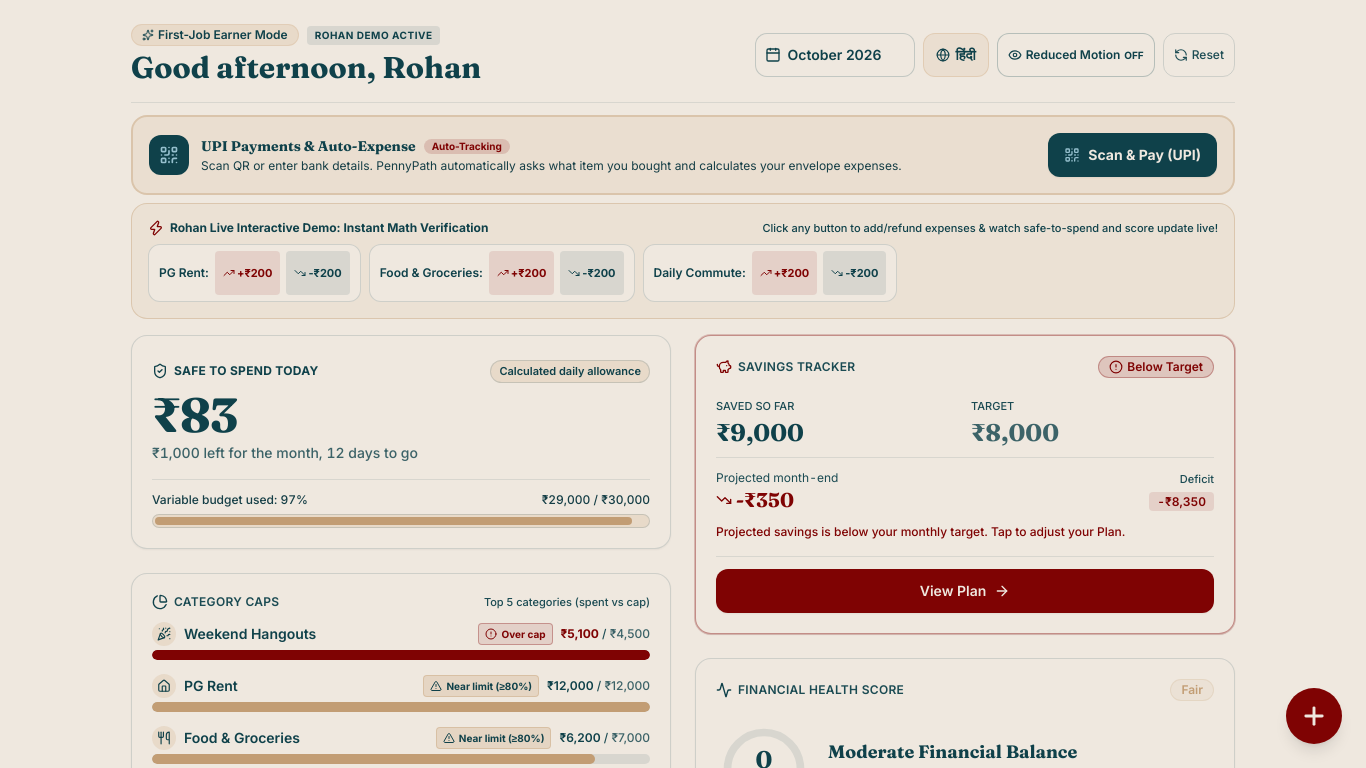
Scenario: Fast Expense Entry & Transactions List Acceptance Suite › allows adding an expense in <= 3 taps from Home via keypad and category tap
The width and height of the screenshot is (1366, 768).
Expected: the text "Safe to spend today" is shown, top-left (174, 363), bottom-right (319, 379)
Note: Tap 1: Tap Quick-Add FAB
Click the button named "Add New Expense": [1314, 716] box top-left (1286, 688), bottom-right (1342, 744)
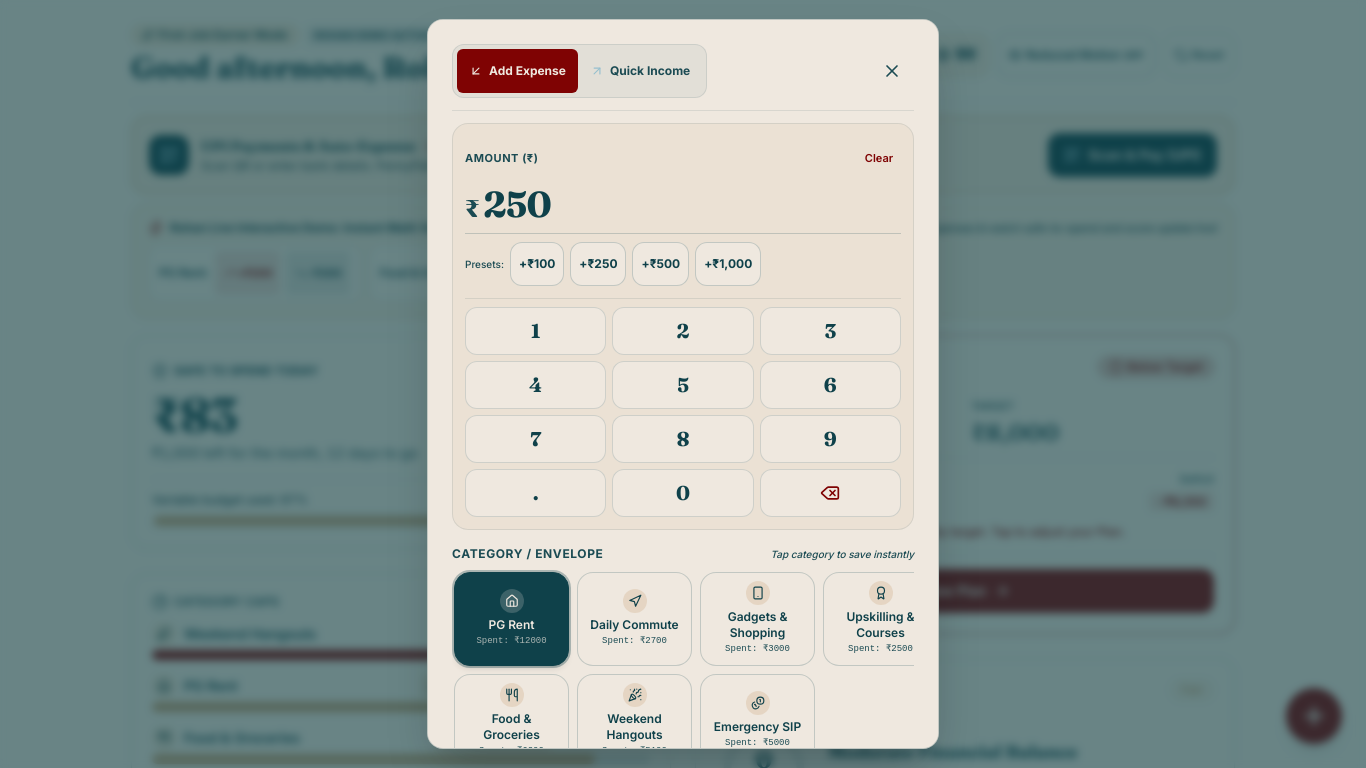
Now the text "Category / Envelope" is shown, box top-left (452, 546), bottom-right (604, 562)
Now the element named "Numeric Keypad" is shown, box top-left (465, 298), bottom-right (901, 517)
Note: Tap numeric keypad keys: 5, 0 (or preset +100)
Click the button "5": [683, 385] box top-left (612, 361), bottom-right (754, 409)
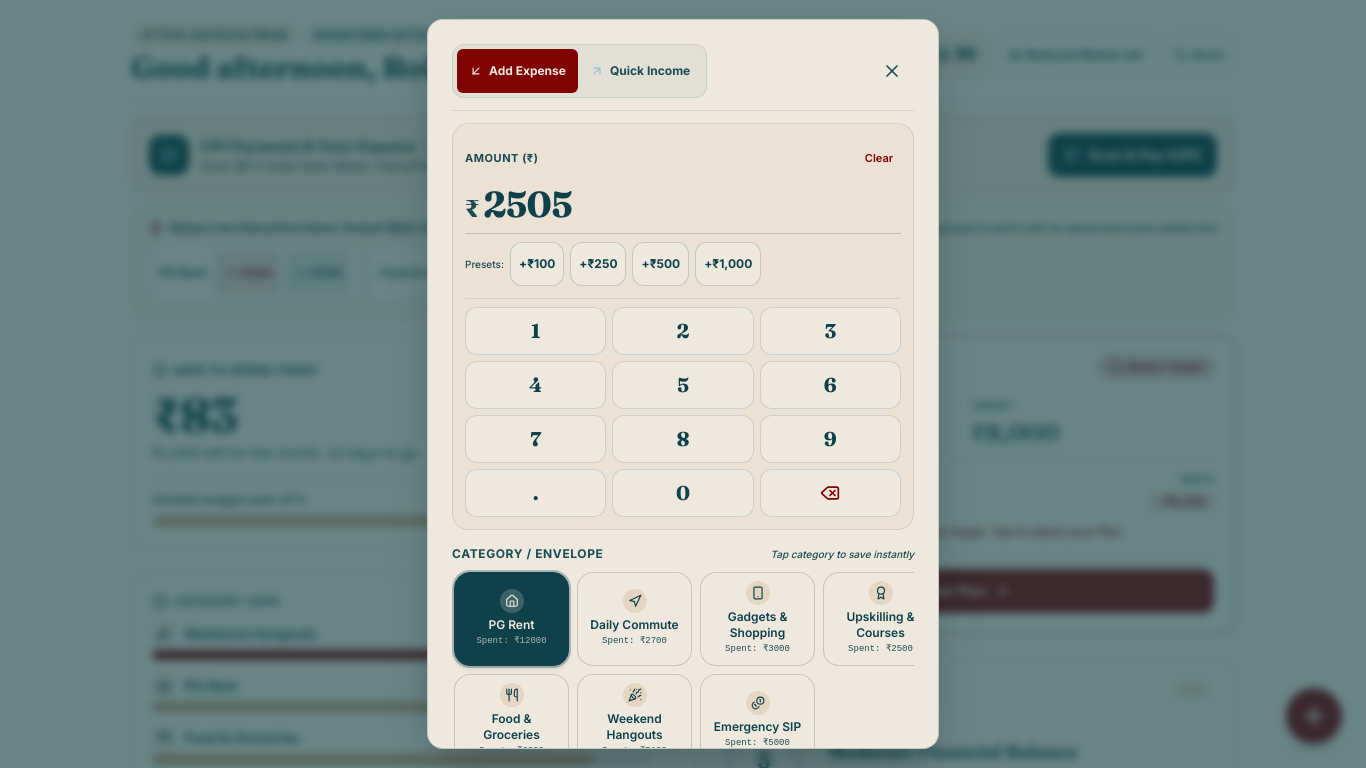
Click the button "0": [683, 493] box top-left (612, 469), bottom-right (754, 517)
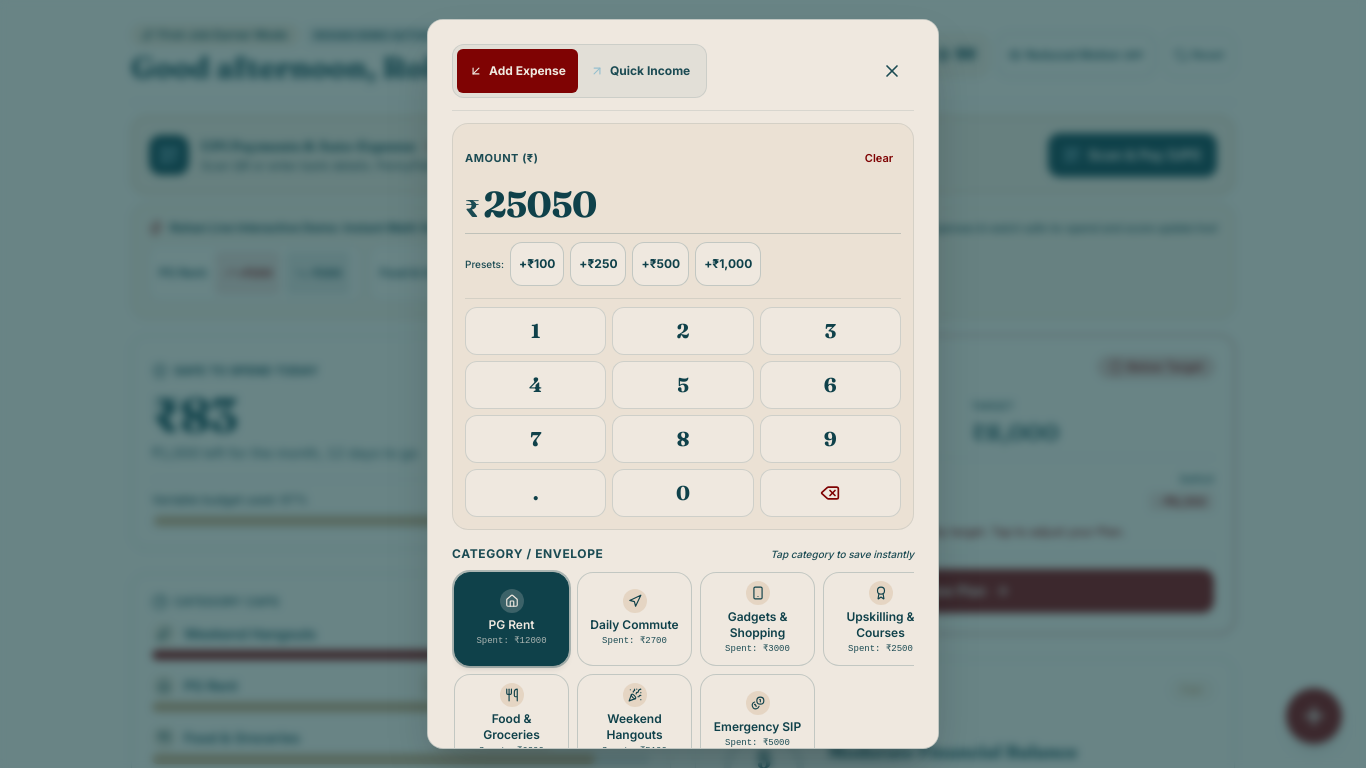
Note: Tap a category chip to save immediately
Click the button "PG Rent Spent: ₹12000": [512, 619] box top-left (454, 572), bottom-right (569, 666)
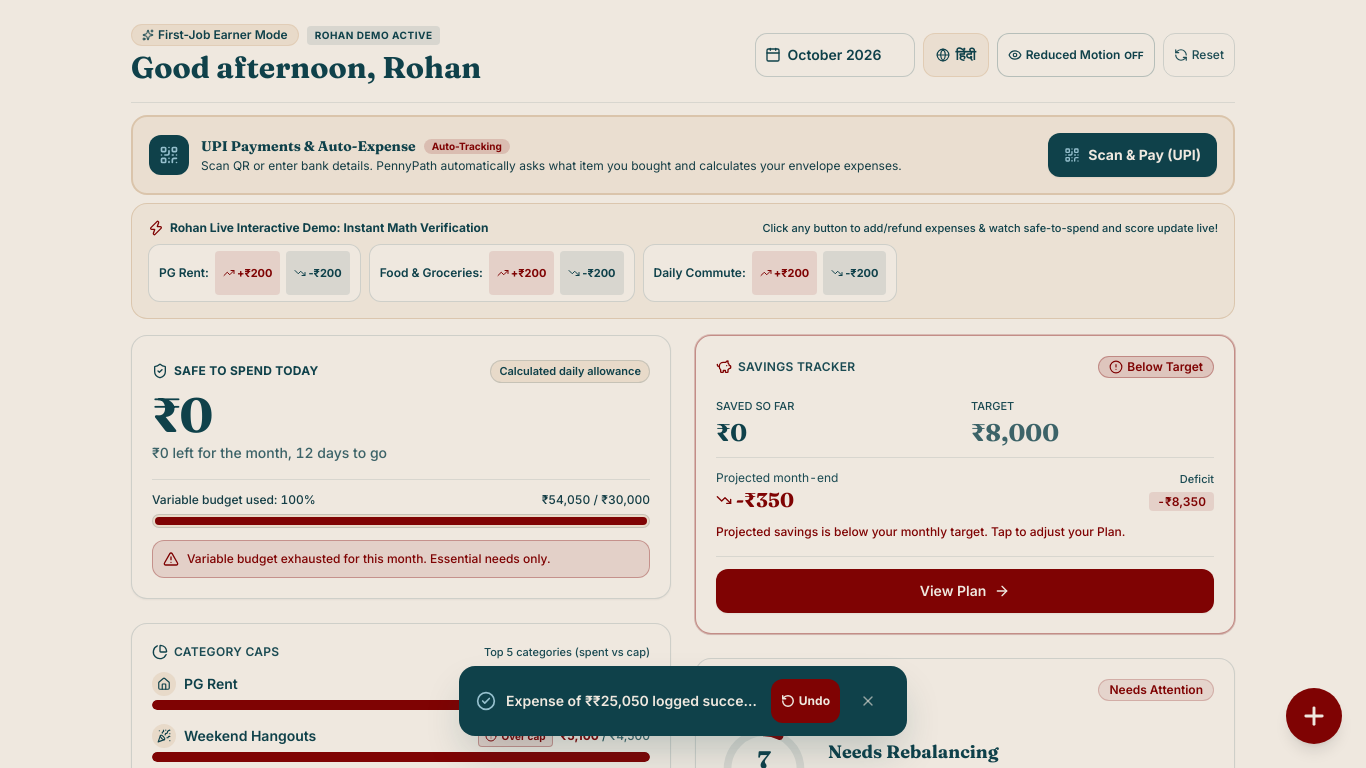
Now the text "Undo" is shown, box top-left (799, 693), bottom-right (830, 709)
